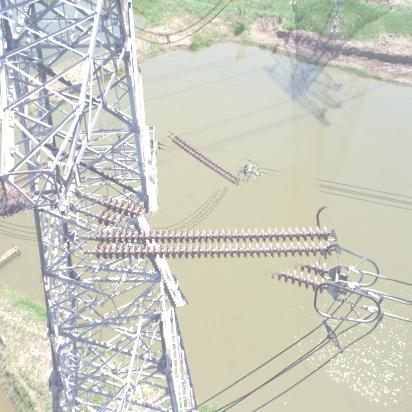insulator: (84, 178, 339, 314), (162, 139, 248, 181)
